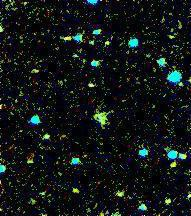star: (56, 173, 86, 203)
